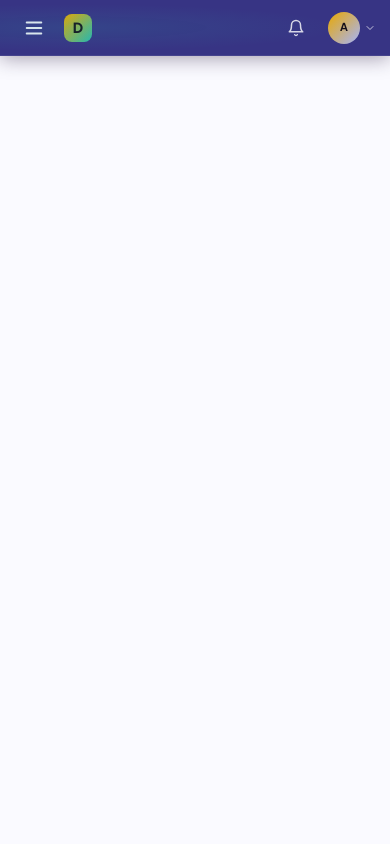
AppNavbar mobile › drawer dialog appears in tree after hamburger click
Click the button named "Buka menu" at [34, 28], box [12,6,56,50]
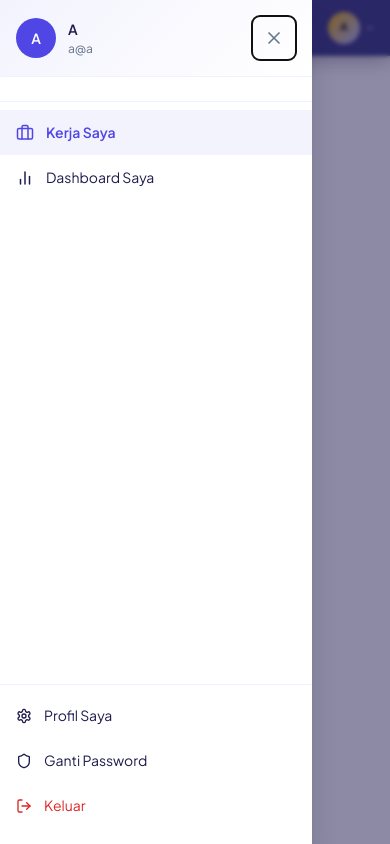
Check: the dialog is shown
